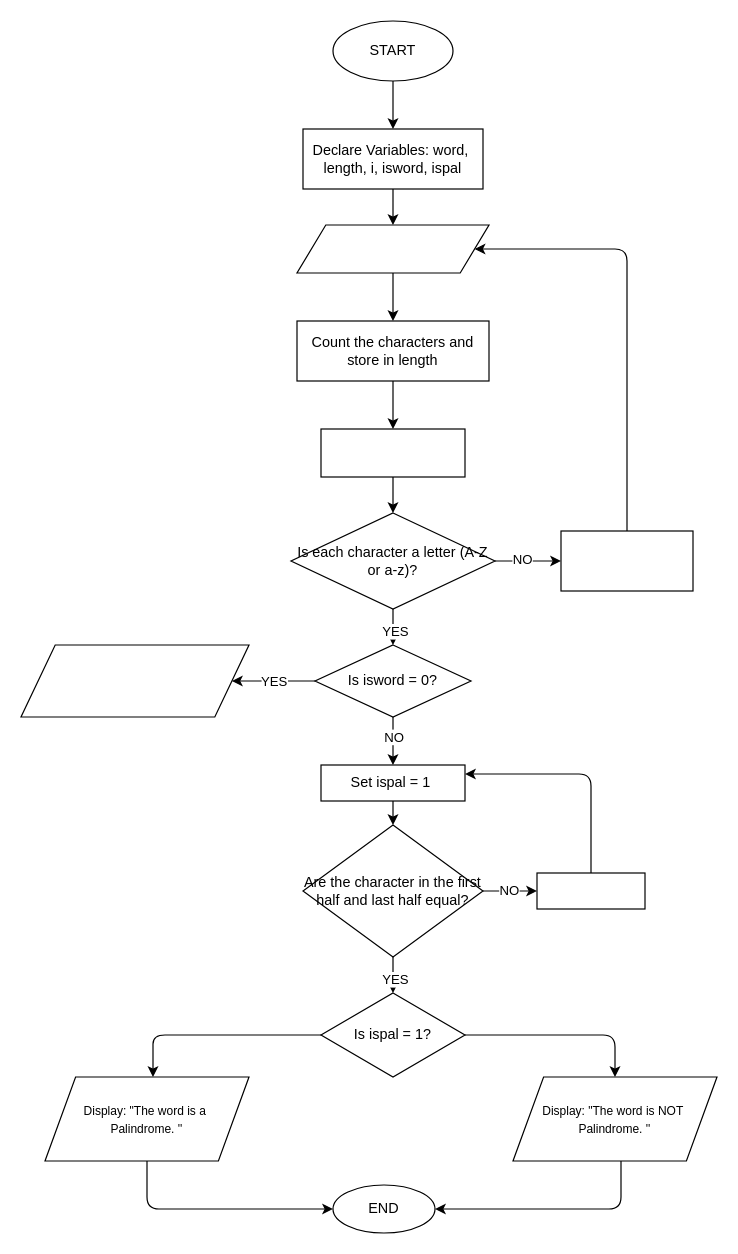
The diagram is 738 pixels wide and 1254 high, and some of its shapes have lost their labels. Here are the shapes that lost their labels. From the top down, the centre of each, then its label:
point (392, 248): Input a single word
point (392, 452): Set isword = 1
point (626, 560): Set isword = 0
point (134, 680): Display: "Error: Input must be a word, no numbers or any symbols. "
point (590, 890): Set ispal = 0
